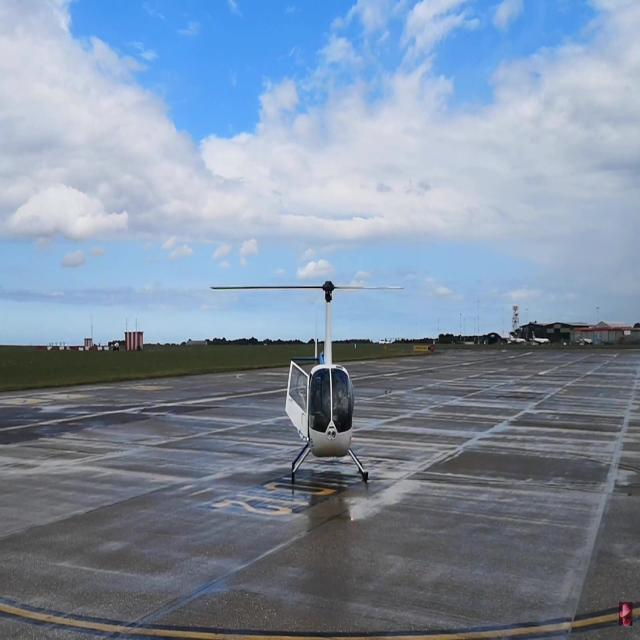CIV_HELO: (283, 278, 370, 484)
